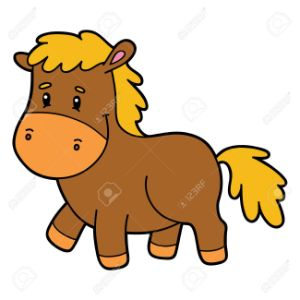horse: (11, 29, 285, 271)
